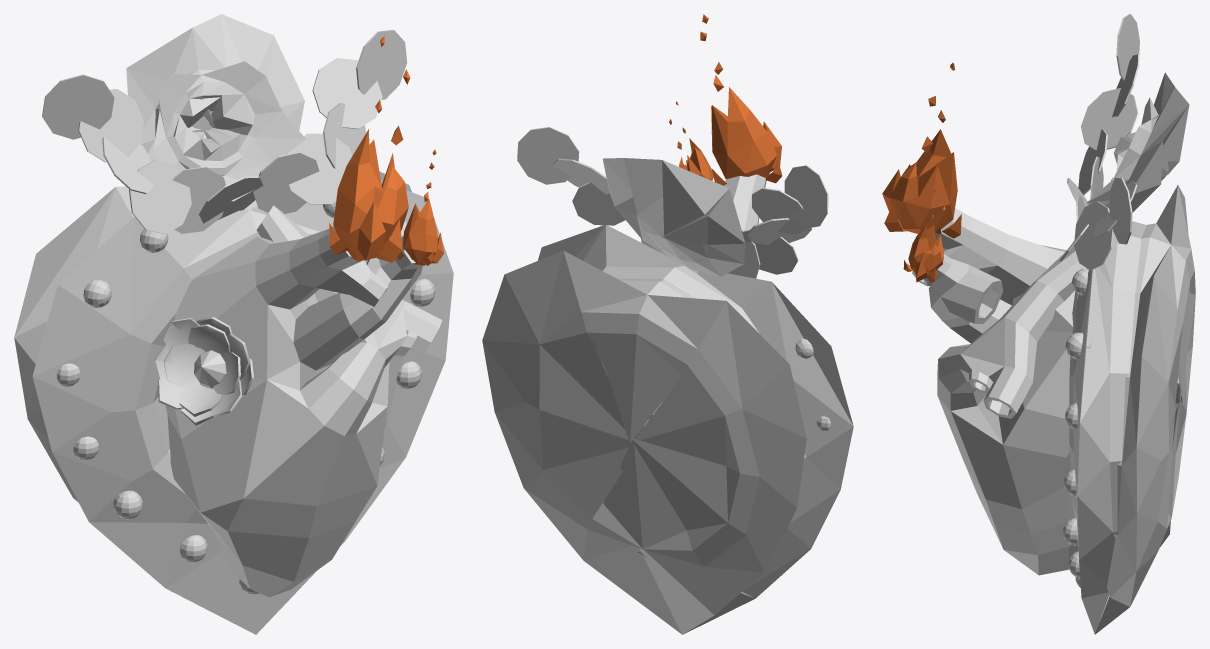
Rendered from oahack.gltf.
3 views of the same model, side by side, from view 1: azimuth 30°, elevation 25°; view 2: azimuth 150°, elevation 25°; view 3: azimuth 270°, elevation 25° (orthographic). The views are drawn at different scales.
Parts seen in each view (by area): view 1: Heart, mesh677774601, mesh410143615, campfire, mesh1189500793, pCube13, mesh994756808, mesh710871717, mesh2115928318, mesh1427291044, mesh1659870527, mesh1205645518 (+8 smaller); view 2: mesh1189500793, mesh677774601, mesh410143615, campfire, mesh1659870527, mesh994756808, mesh1554290657, mesh292907403, Heart, mesh710871717, mesh2115928318, mesh1873364659 (+1 smaller); view 3: Heart, mesh1189500793, mesh677774601, campfire, mesh410143615, mesh1873364659, mesh292907403, mesh1659870527, mesh994756808, mesh710871717, mesh1554290657, mesh2115928318.
Part boxes in pixels (bbox=[...]): Heart: bbox=[165, 205, 442, 597]; mesh677774601: bbox=[32, 180, 453, 634]; mesh410143615: bbox=[126, 14, 305, 210]; campfire: bbox=[329, 36, 444, 265]; mesh1189500793: bbox=[14, 171, 411, 502]; pCube13: bbox=[155, 317, 253, 425]; mesh994756808: bbox=[42, 74, 114, 139]; mesh710871717: bbox=[129, 160, 191, 234]; mesh2115928318: bbox=[312, 58, 382, 129]; mesh1427291044: bbox=[287, 133, 352, 204]; mesh1659870527: bbox=[356, 30, 407, 99]; mesh1205645518: bbox=[253, 152, 319, 213]; mesh1189500793: bbox=[482, 250, 806, 634]; mesh677774601: bbox=[538, 224, 853, 634]; mesh410143615: bbox=[602, 158, 745, 276]; campfire: bbox=[669, 14, 782, 185]; mesh1659870527: bbox=[517, 127, 579, 184]; mesh994756808: bbox=[784, 165, 828, 228]; mesh1554290657: bbox=[752, 187, 807, 234]; mesh292907403: bbox=[572, 182, 625, 225]; Heart: bbox=[636, 174, 766, 436]; mesh710871717: bbox=[742, 229, 798, 274]; mesh2115928318: bbox=[553, 158, 609, 194]; mesh1873364659: bbox=[747, 218, 811, 245]; Heart: bbox=[912, 208, 1179, 575]; mesh1189500793: bbox=[1095, 185, 1195, 634]; mesh677774601: bbox=[1069, 177, 1146, 634]; campfire: bbox=[882, 63, 961, 283]; mesh410143615: bbox=[1087, 72, 1189, 212]; mesh1873364659: bbox=[1080, 88, 1138, 150]; mesh292907403: bbox=[1074, 201, 1113, 270]; mesh1659870527: bbox=[1109, 177, 1132, 244]; mesh994756808: bbox=[1116, 14, 1139, 80]; mesh710871717: bbox=[1078, 129, 1107, 195]; mesh1554290657: bbox=[1112, 54, 1139, 117]; mesh2115928318: bbox=[1093, 181, 1137, 238].
Bounding box in the file's own units: 6.66 × 9.81 × 4.68.
